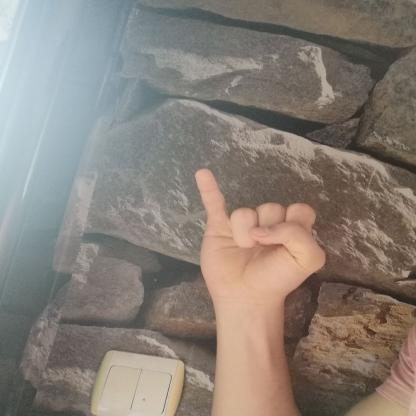MEEM: (173, 158, 341, 313)
